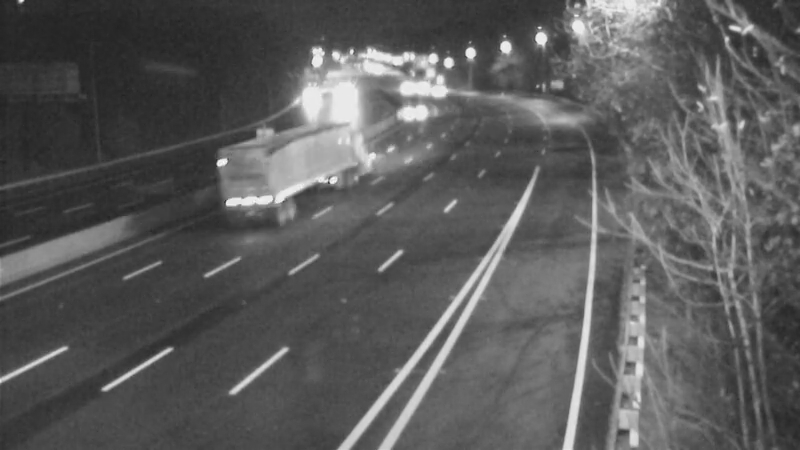vehicle: (253, 119, 333, 199), (413, 65, 463, 115), (380, 62, 430, 112), (389, 81, 439, 131), (316, 75, 366, 125)
